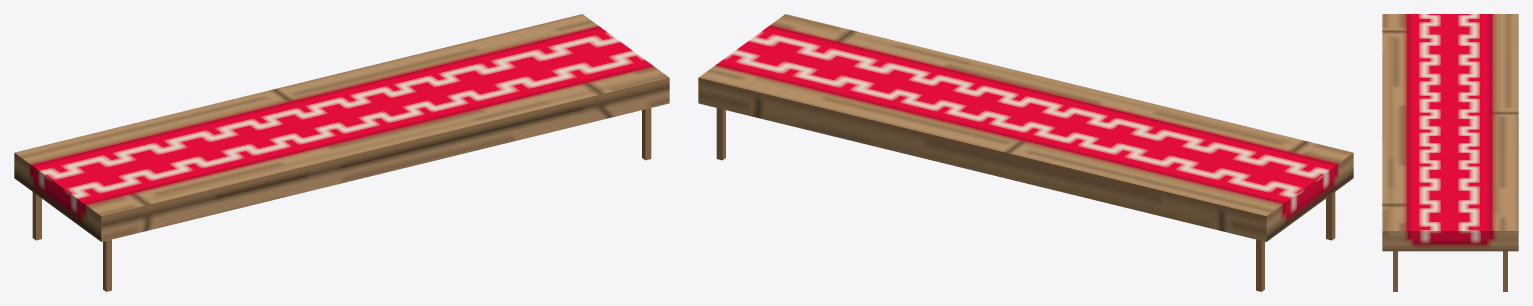
The model's file is Bench.fbx.
3 views of the same model, side by side, from view 1: azimuth 30°, elevation 25°; view 2: azimuth 150°, elevation 25°; view 3: azimuth 270°, elevation 25° (orthographic). The views are drawn at different scales.
Visible parts, largest first — view 1: Bench4, Bench5, Bench3, BenchLeg4, BenchLeg2, BenchLeg1; view 2: Bench4, Bench5, Bench3, BenchLeg3, BenchLeg1, BenchLeg2; view 3: Bench4, Bench3, Bench5, BenchLeg3, BenchLeg4.
Boxes of the visible parts, box(x1,y1,x2,y2) form: Bench4: box(201, 51, 537, 197); Bench5: box(14, 107, 287, 241); Bench3: box(430, 14, 669, 135); BenchLeg4: box(642, 108, 651, 160); BenchLeg2: box(103, 239, 111, 291); BenchLeg1: box(32, 192, 41, 240); Bench4: box(830, 51, 1166, 197); Bench5: box(1080, 107, 1353, 241); Bench3: box(698, 14, 937, 135); BenchLeg3: box(716, 108, 725, 160); BenchLeg1: box(1256, 239, 1264, 291); BenchLeg2: box(1326, 192, 1335, 240); Bench4: box(1382, 85, 1518, 172); Bench3: box(1382, 173, 1518, 251); Bench5: box(1382, 14, 1518, 85); BenchLeg3: box(1503, 251, 1507, 291); BenchLeg4: box(1393, 251, 1397, 291).
Size of the model in its own units: 196 by 27.5 by 52.
